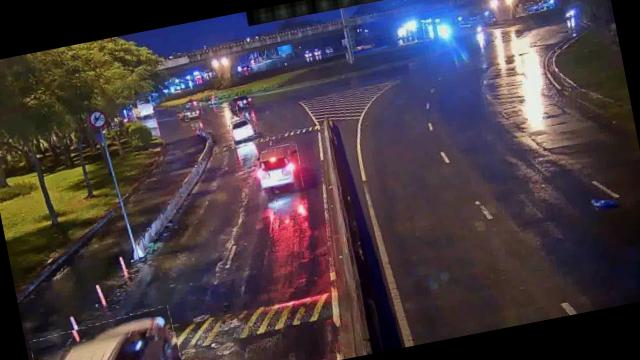Car: (30, 307, 188, 360), (254, 143, 304, 194), (228, 112, 257, 142), (180, 101, 203, 122)
